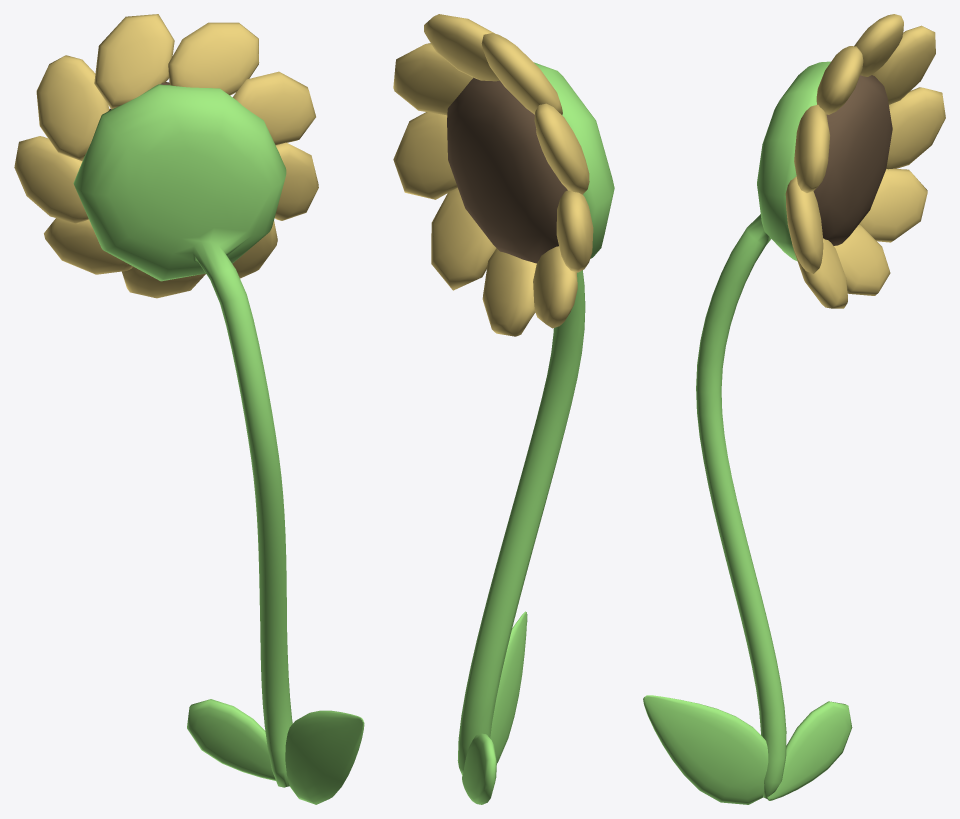
File: MOD_ZonnebloemHAPPY_V1.fbx
3 views of the same model, side by side, from view 1: azimuth 30°, elevation 25°; view 2: azimuth 150°, elevation 25°; view 3: azimuth 270°, elevation 25° (orthographic). The views are drawn at different scales.
Parts seen in each view (by area): view 1: Plantje_Happy; view 2: Plantje_Happy; view 3: Plantje_Happy.
Part boxes in pixels (left/top/right/bottom): Plantje_Happy: left=14, top=14, right=364, bottom=804; Plantje_Happy: left=393, top=14, right=614, bottom=804; Plantje_Happy: left=643, top=14, right=945, bottom=804.
Bounding box in the file's own units: 0.8425 × 2.54 × 0.9351.
